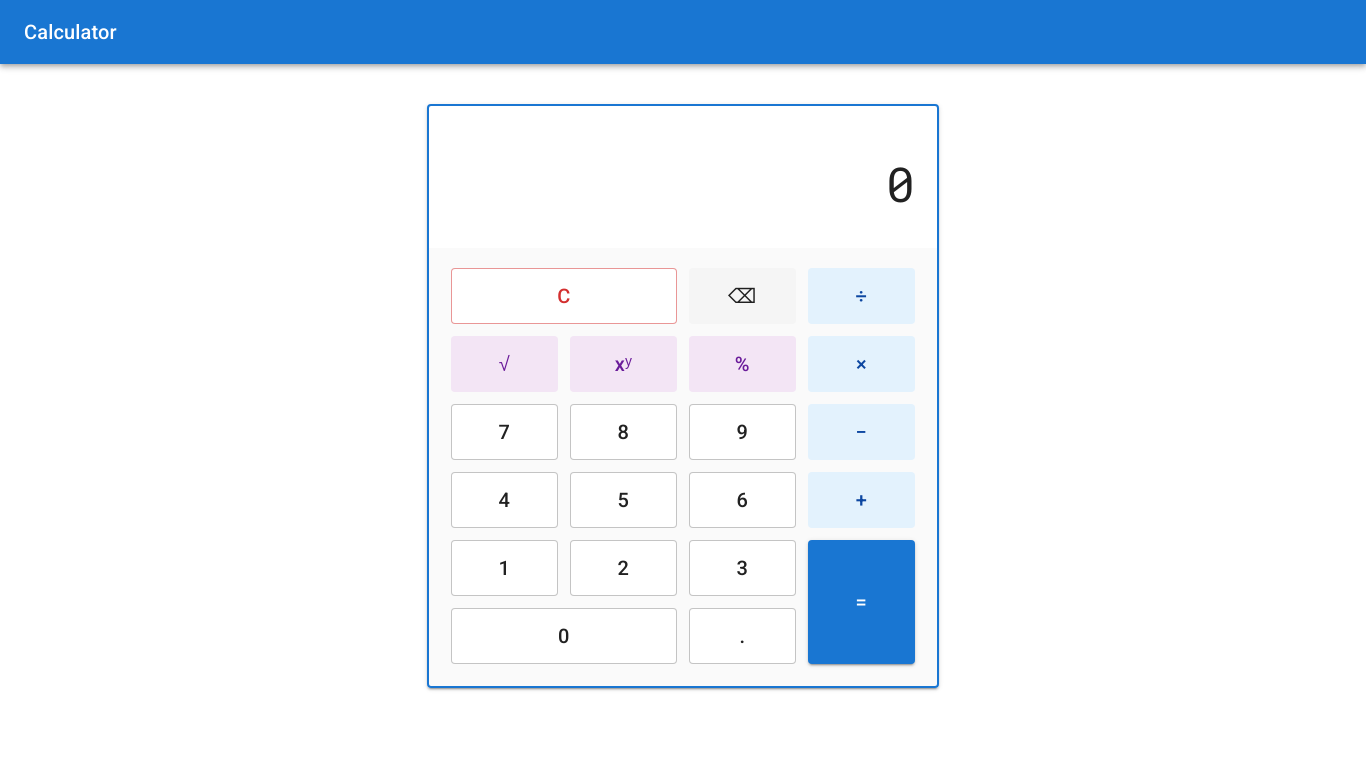
Test case: errors › starts a new number when a digit follows a 400 error
The width and height of the screenshot is (1366, 768).
Click the button "1". click: (504, 568)
box: [451,540,558,596]
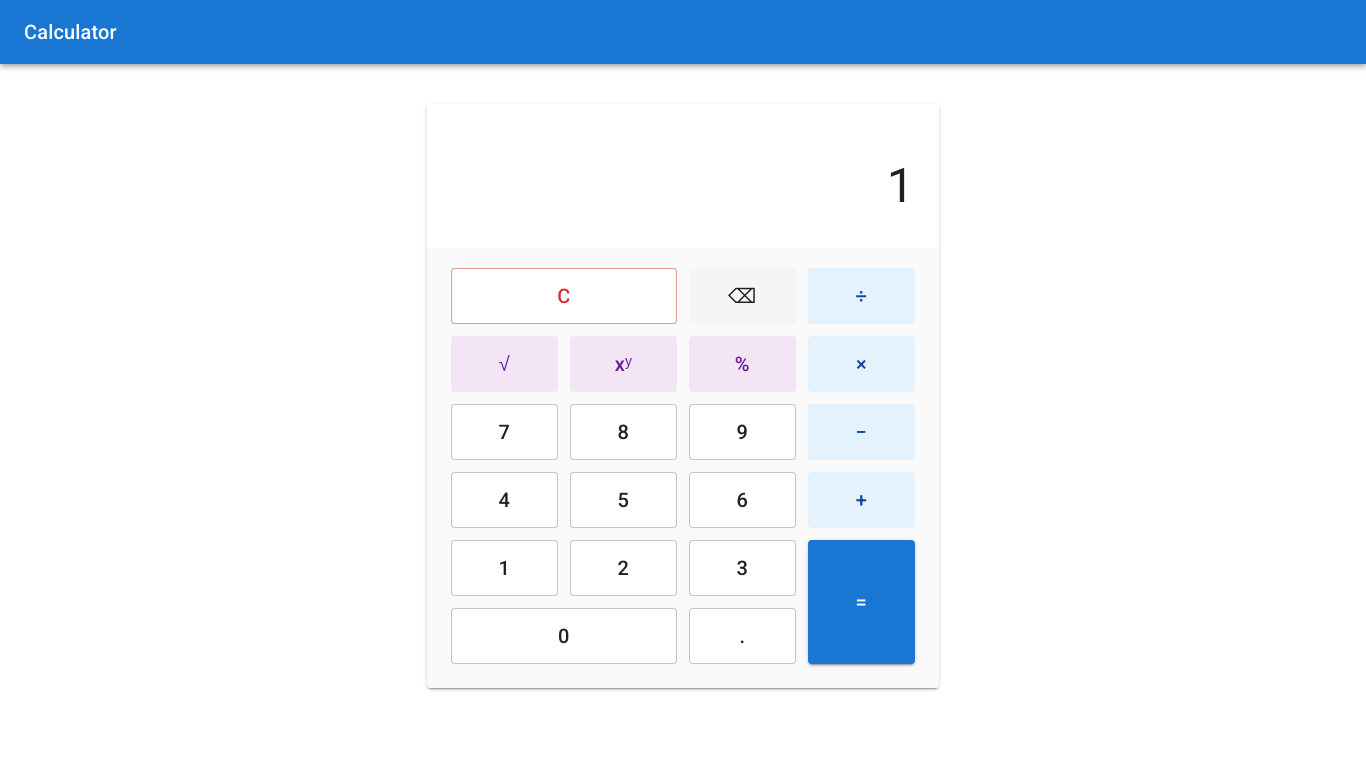
Click the button named "Divide". click: (862, 296)
box: [808,268,915,324]
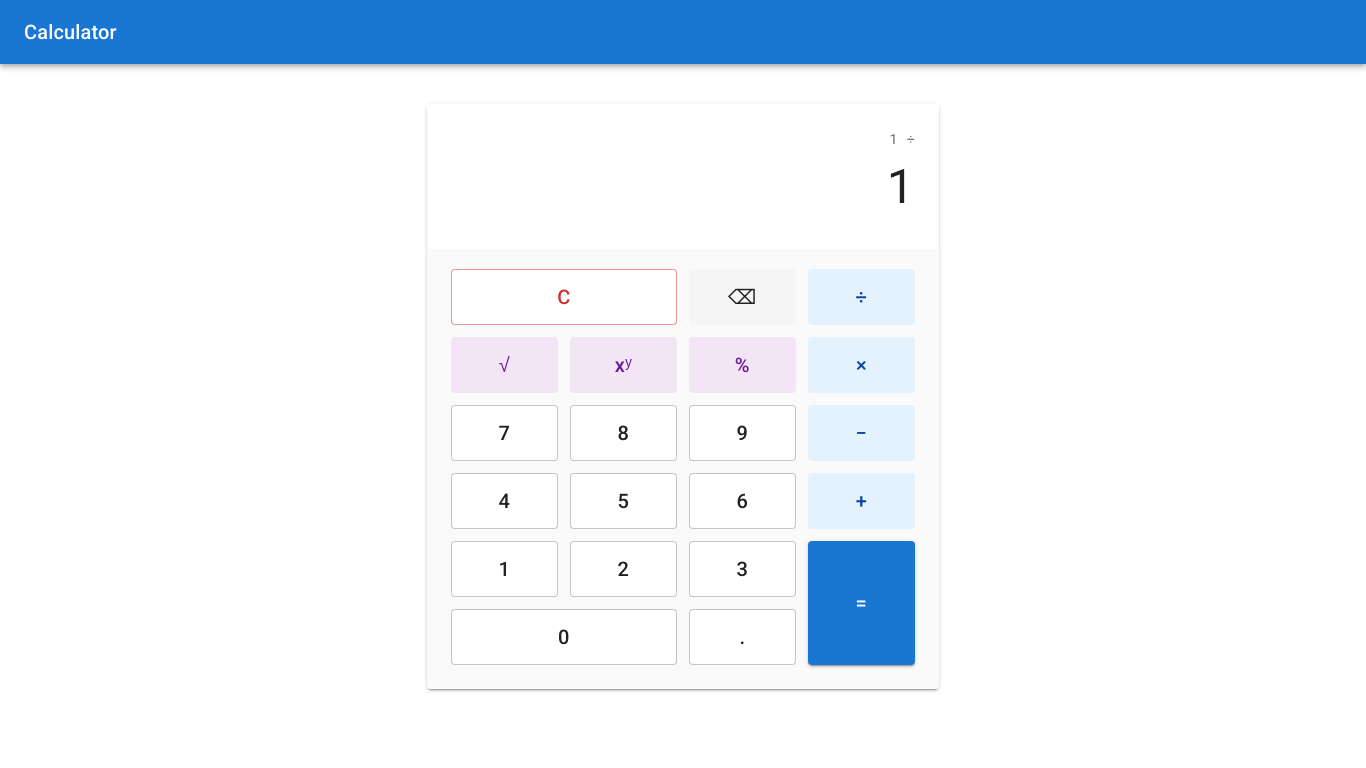
Click the button "0". click: (564, 637)
box: [451,609,677,665]
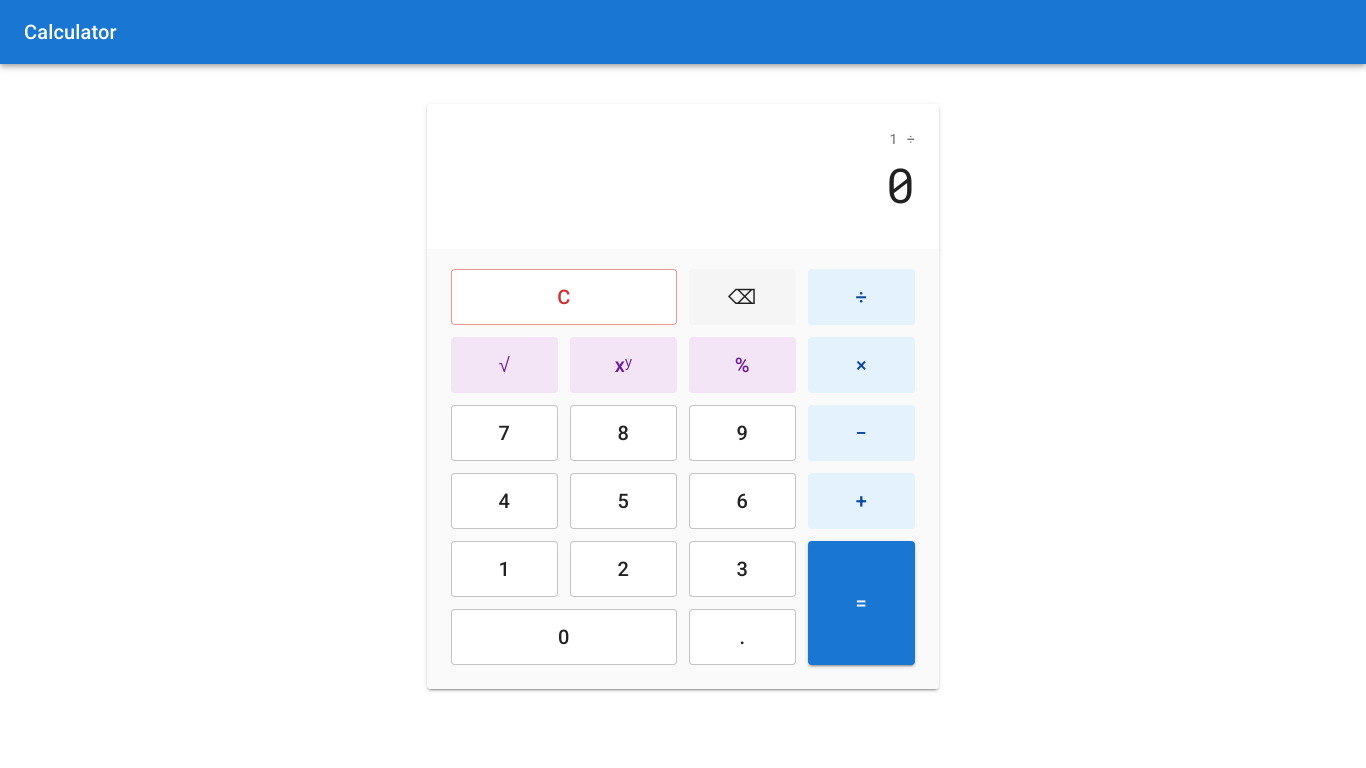
Click the button named "Equals". click: (862, 603)
box: [808,541,915,665]
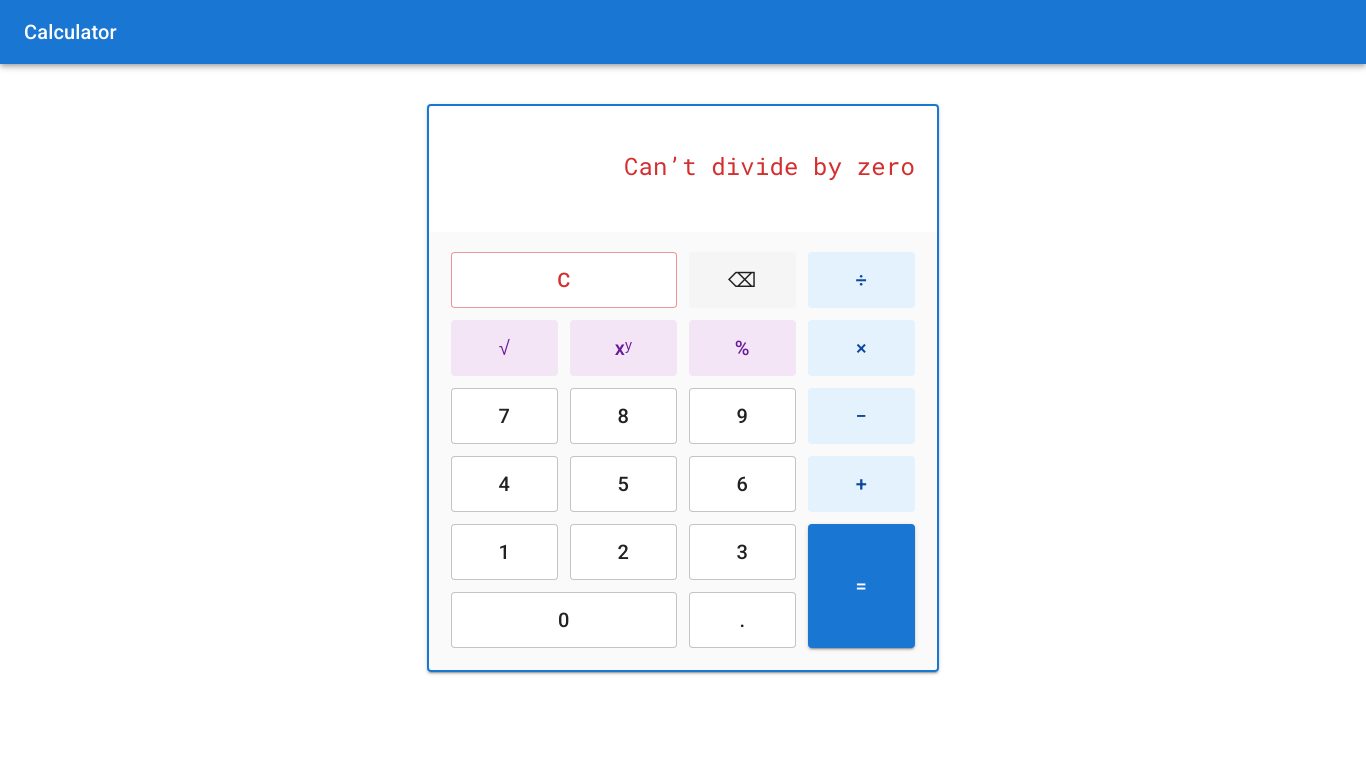
Now the text with test id "value" reads "Can’t divide by zero", box [624,150,915,182]
Click the button "5". click: (624, 484)
box: [570,456,677,512]
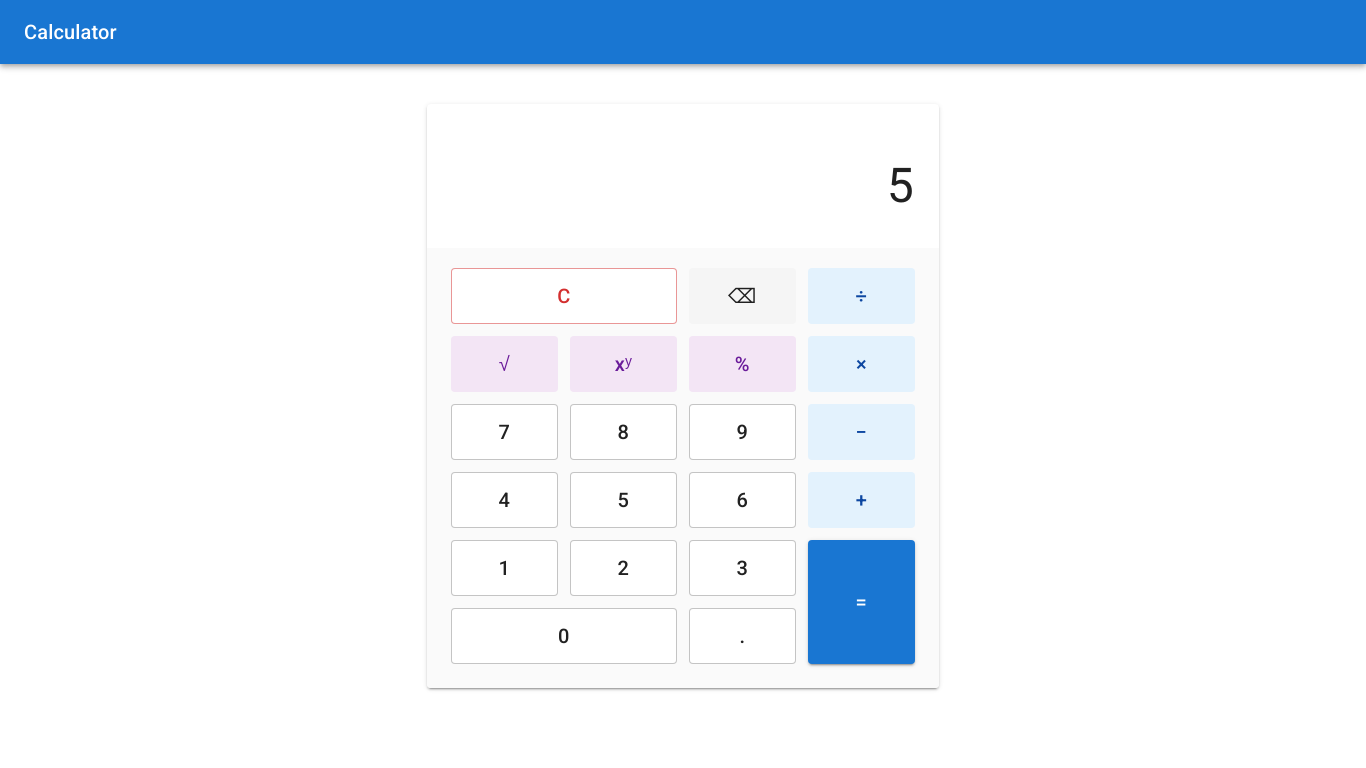
Now the text with test id "value" reads "5", box [886,152,915,215]
